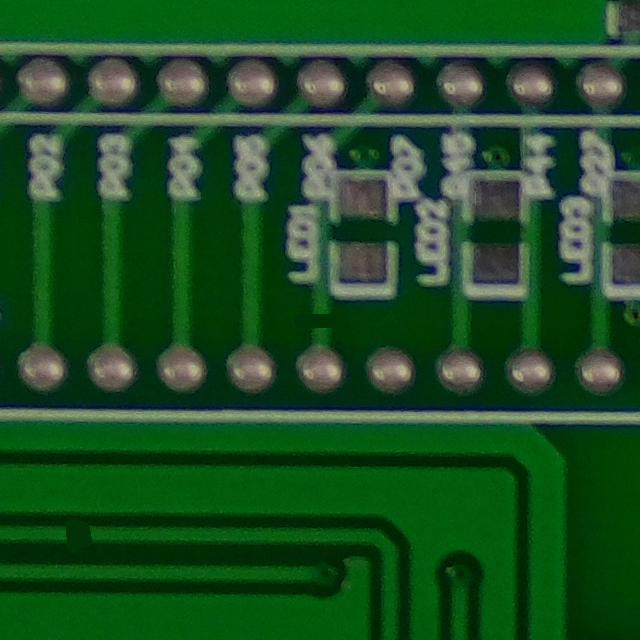open_circuit: (301, 300, 339, 341)
